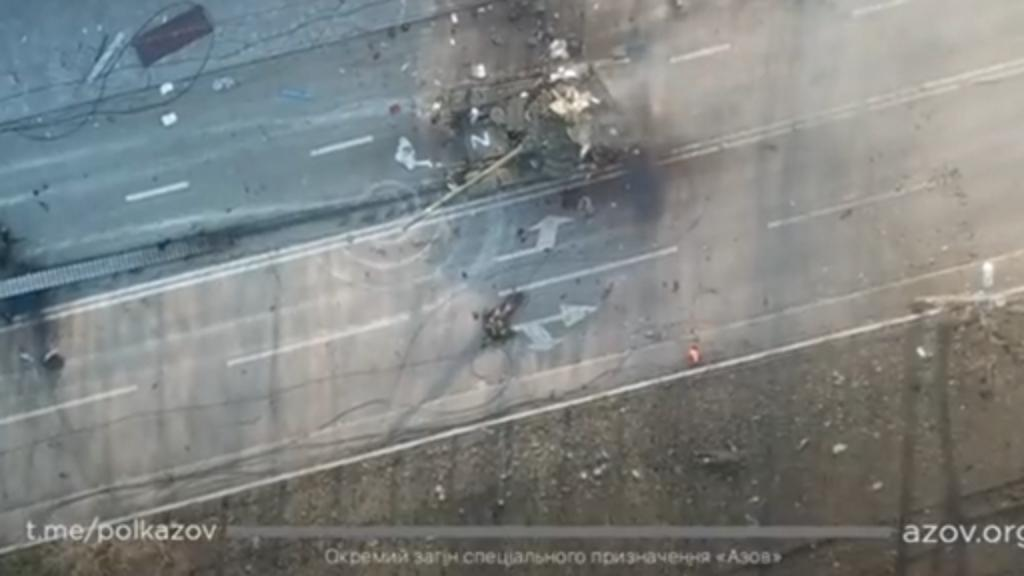TANK: (392, 52, 674, 242)
